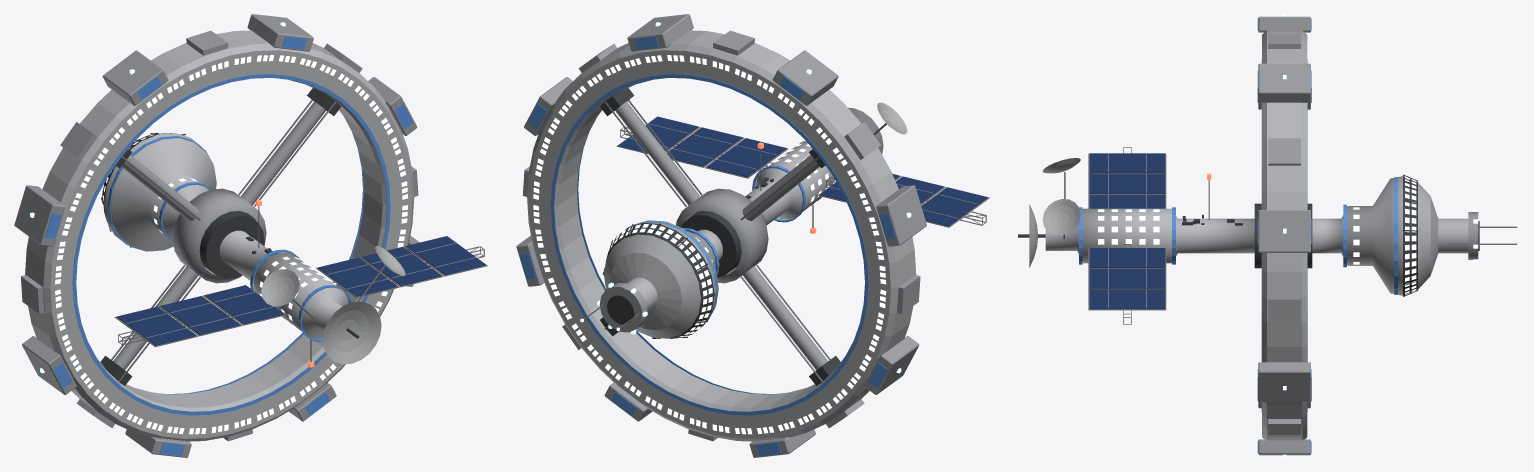
Rendered from halo.glb.
The picture shows the model from 3 angles, left to right: view 1: azimuth 30°, elevation 25°; view 2: azimuth 150°, elevation 25°; view 3: azimuth 270°, elevation 25°; orthographic projection. The views are drawn at different scales.
Visible parts, largest first — view 1: HaloRing, HaloSpine; view 2: HaloRing, HaloSpine; view 3: HaloSpine, HaloRing.
Part boxes in pixels (left/top/right/bottom): HaloRing: left=14, top=14, right=420, bottom=457; HaloSpine: left=101, top=132, right=487, bottom=364; HaloRing: left=516, top=14, right=926, bottom=457; HaloSpine: left=580, top=102, right=989, bottom=339; HaloSpine: left=1018, top=147, right=1519, bottom=324; HaloRing: left=1257, top=14, right=1311, bottom=457.
Size of the model in its own units: 33.99 by 33.99 by 39.9.
